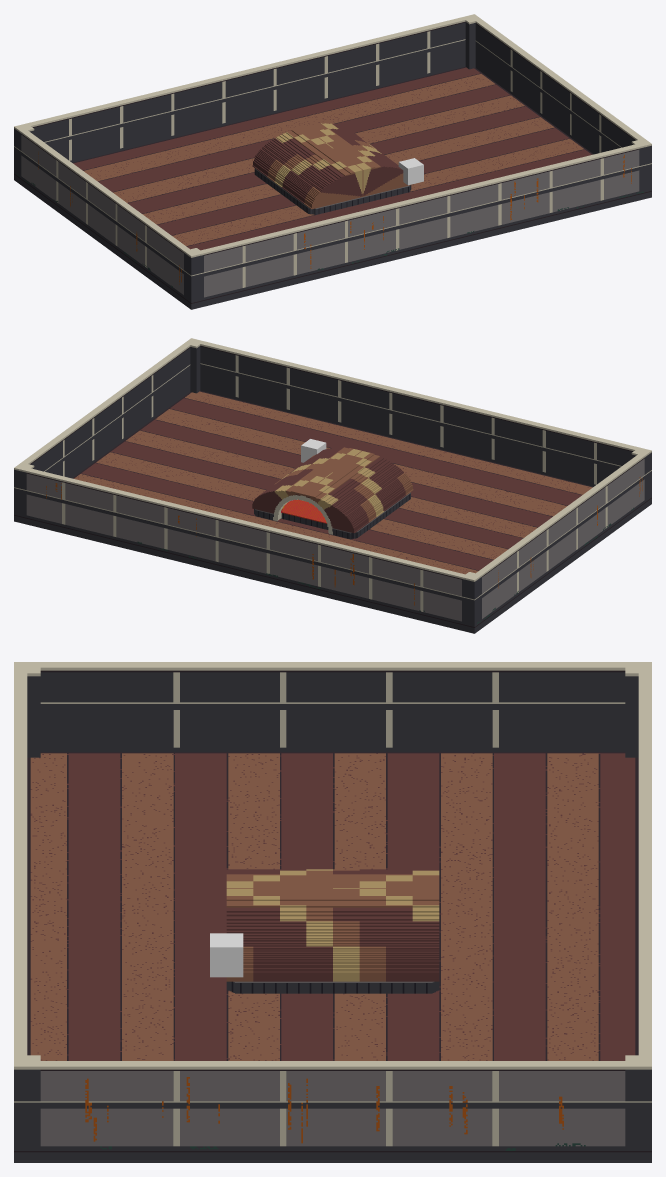
Rendered from cart_body.glb.
The picture shows the model from 3 angles, top to bottom: view 1: azimuth 30°, elevation 25°; view 2: azimuth 150°, elevation 25°; view 3: azimuth 270°, elevation 25°; orthographic projection. The views are drawn at different scales.
Parts seen in each view (by area): view 1: Untitled.005, Untitled.003, Untitled.004, Untitled.002, Untitled.001, Untitled, Cube; view 2: Untitled.005, Untitled.003, Untitled.004, Untitled.001, Untitled.002, Untitled; view 3: Untitled.005, Untitled.003, Untitled.004, Untitled.001, Untitled.002, Untitled, Cube.
Boxes of the visible parts, x1=… form: Untitled.005: x1=73, y1=136, x2=395, y2=309; Untitled.003: x1=278, y1=117, x2=600, y2=259; Untitled.004: x1=14, y1=76, x2=257, y2=222; Untitled.002: x1=219, y1=26, x2=482, y2=152; Untitled.001: x1=483, y1=57, x2=651, y2=209; Untitled: x1=424, y1=14, x2=533, y2=116; Cube: x1=398, y1=158, x2=423, y2=185; Untitled.005: x1=329, y1=400, x2=651, y2=590; Untitled.003: x1=125, y1=350, x2=446, y2=533; Untitled.004: x1=270, y1=527, x2=533, y2=633; Untitled.001: x1=73, y1=338, x2=241, y2=483; Untitled.002: x1=65, y1=478, x2=328, y2=583; Untitled: x1=14, y1=424, x2=123, y2=533; Untitled.005: x1=14, y1=662, x2=439, y2=926; Untitled.003: x1=14, y1=842, x2=439, y2=1060; Untitled.004: x1=439, y1=662, x2=651, y2=926; Untitled.001: x1=14, y1=1021, x2=439, y2=1162; Untitled.002: x1=439, y1=842, x2=651, y2=1060; Untitled: x1=439, y1=1021, x2=651, y2=1162; Cube: x1=210, y1=933, x2=243, y2=977.
Bounding box in the file's own units: 57.6 × 6.4 × 38.4.
7 materials, 6 textured.
